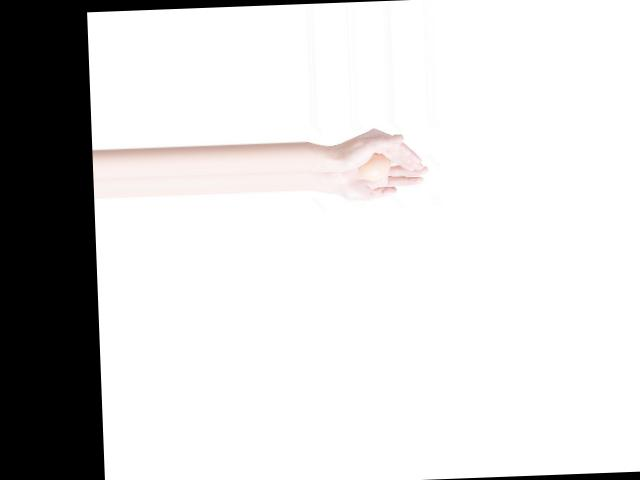egg: (360, 153, 390, 179)
